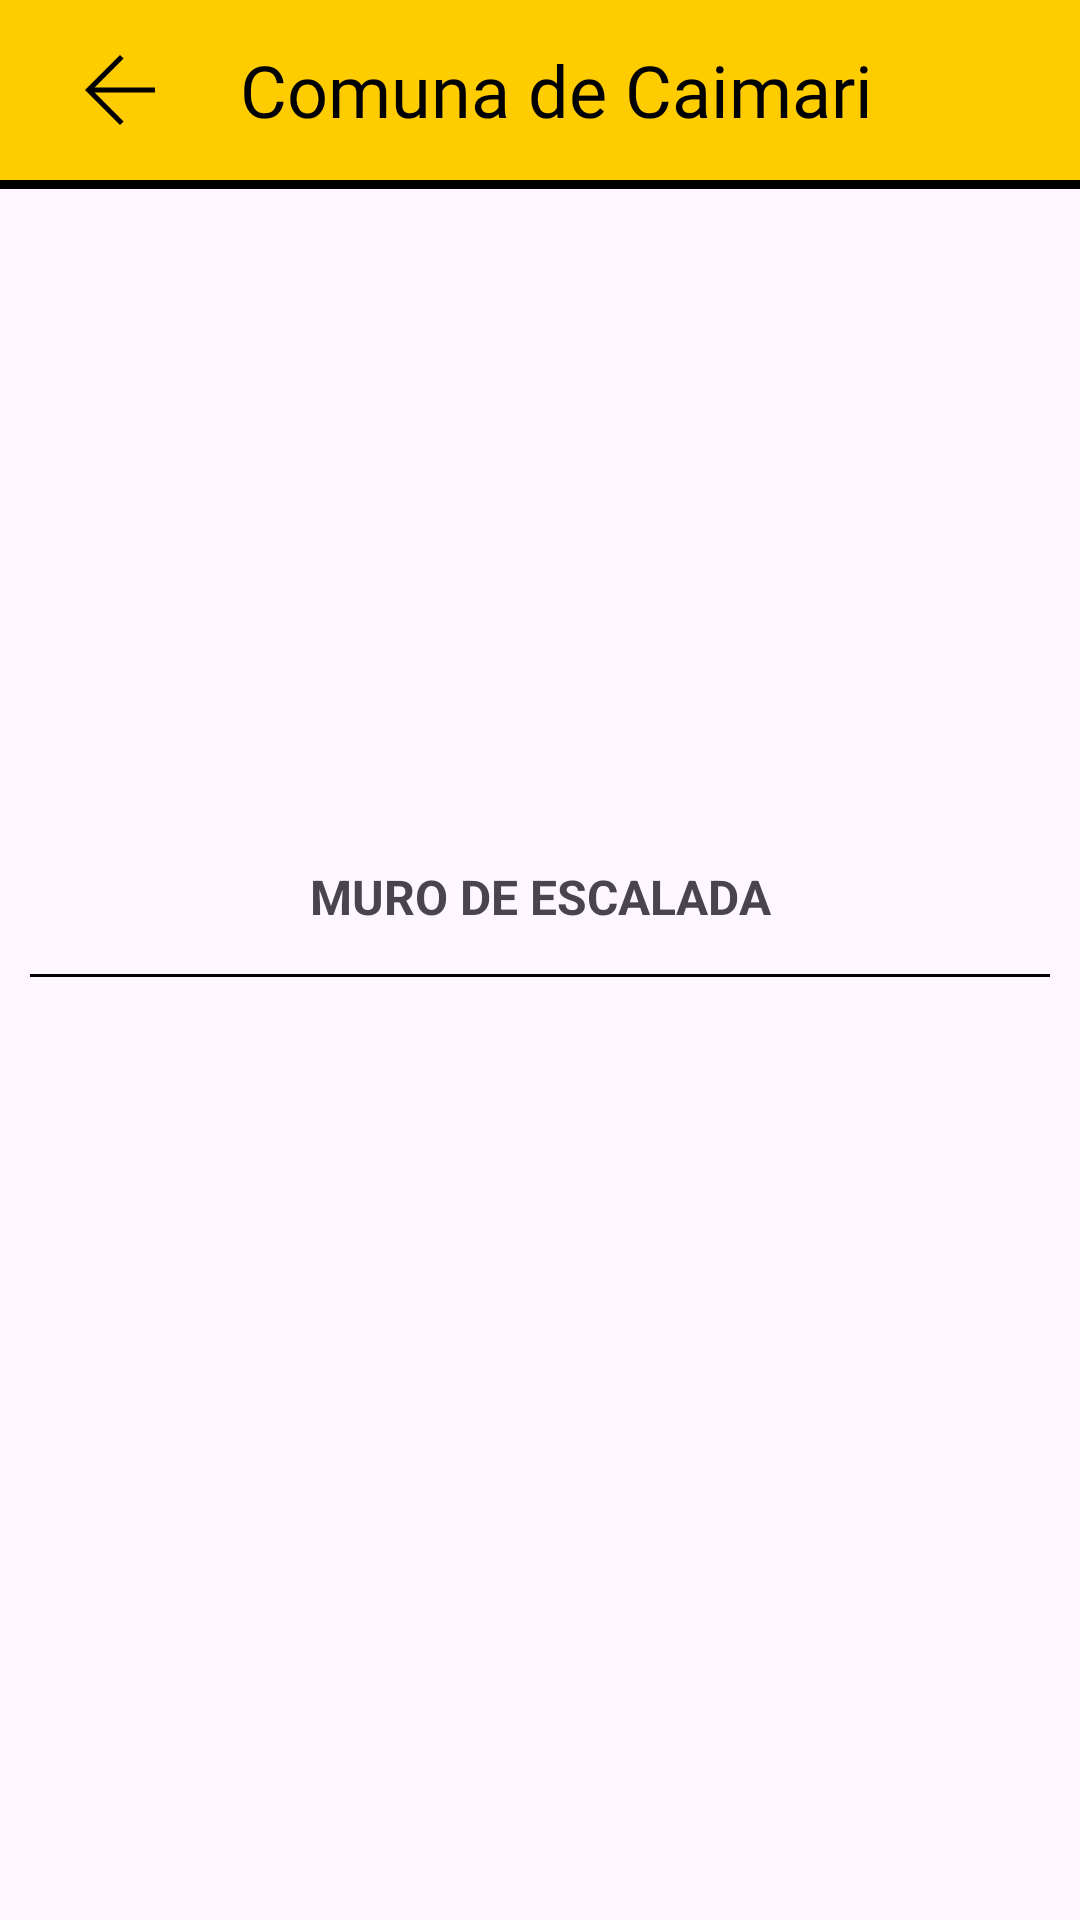

Icons on this 1080x1920 Android screen, each with the point to tap as [x,y]:
flecha atras: [120,90]
